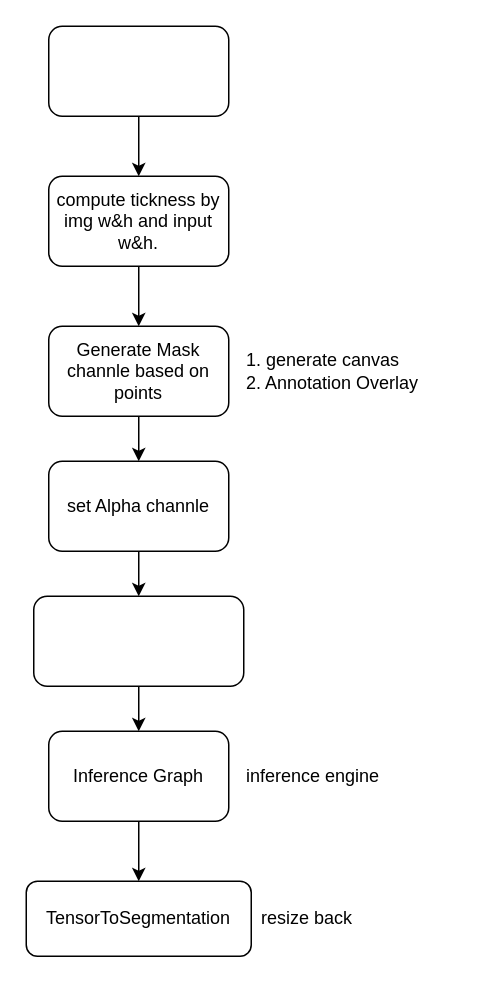
Image size: 480x983. Some labels were removed from this diagram. The centre of each missing label's shape, as x and y in pixels:
"input [1x4x512x512] :RGB + mask" belongs at [138,70].
"resize image" belongs at [138,640].
